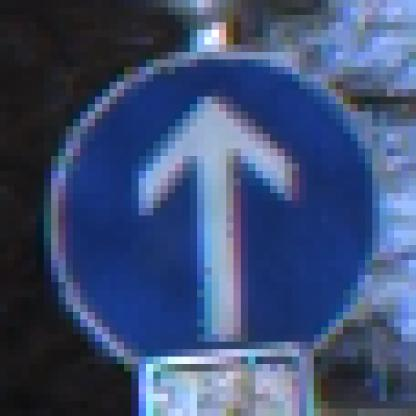AheadOnly: (38, 45, 381, 380)
